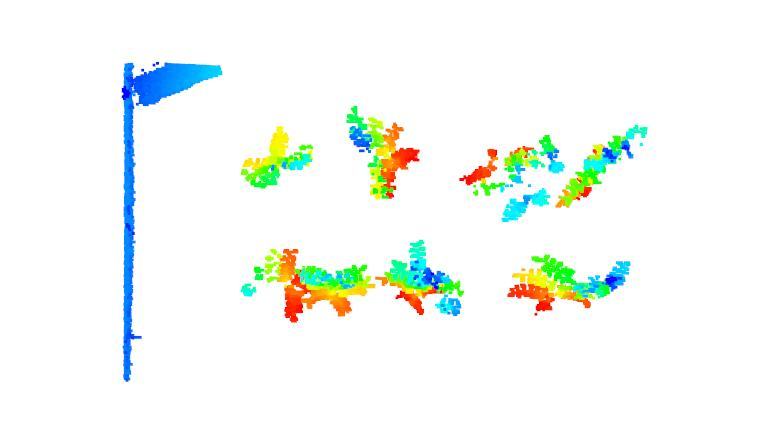chickpea: (558, 123, 649, 215), (377, 235, 466, 325), (509, 253, 634, 315), (342, 108, 424, 202), (465, 139, 549, 223), (228, 247, 309, 324), (238, 127, 319, 192), (301, 262, 375, 320)
